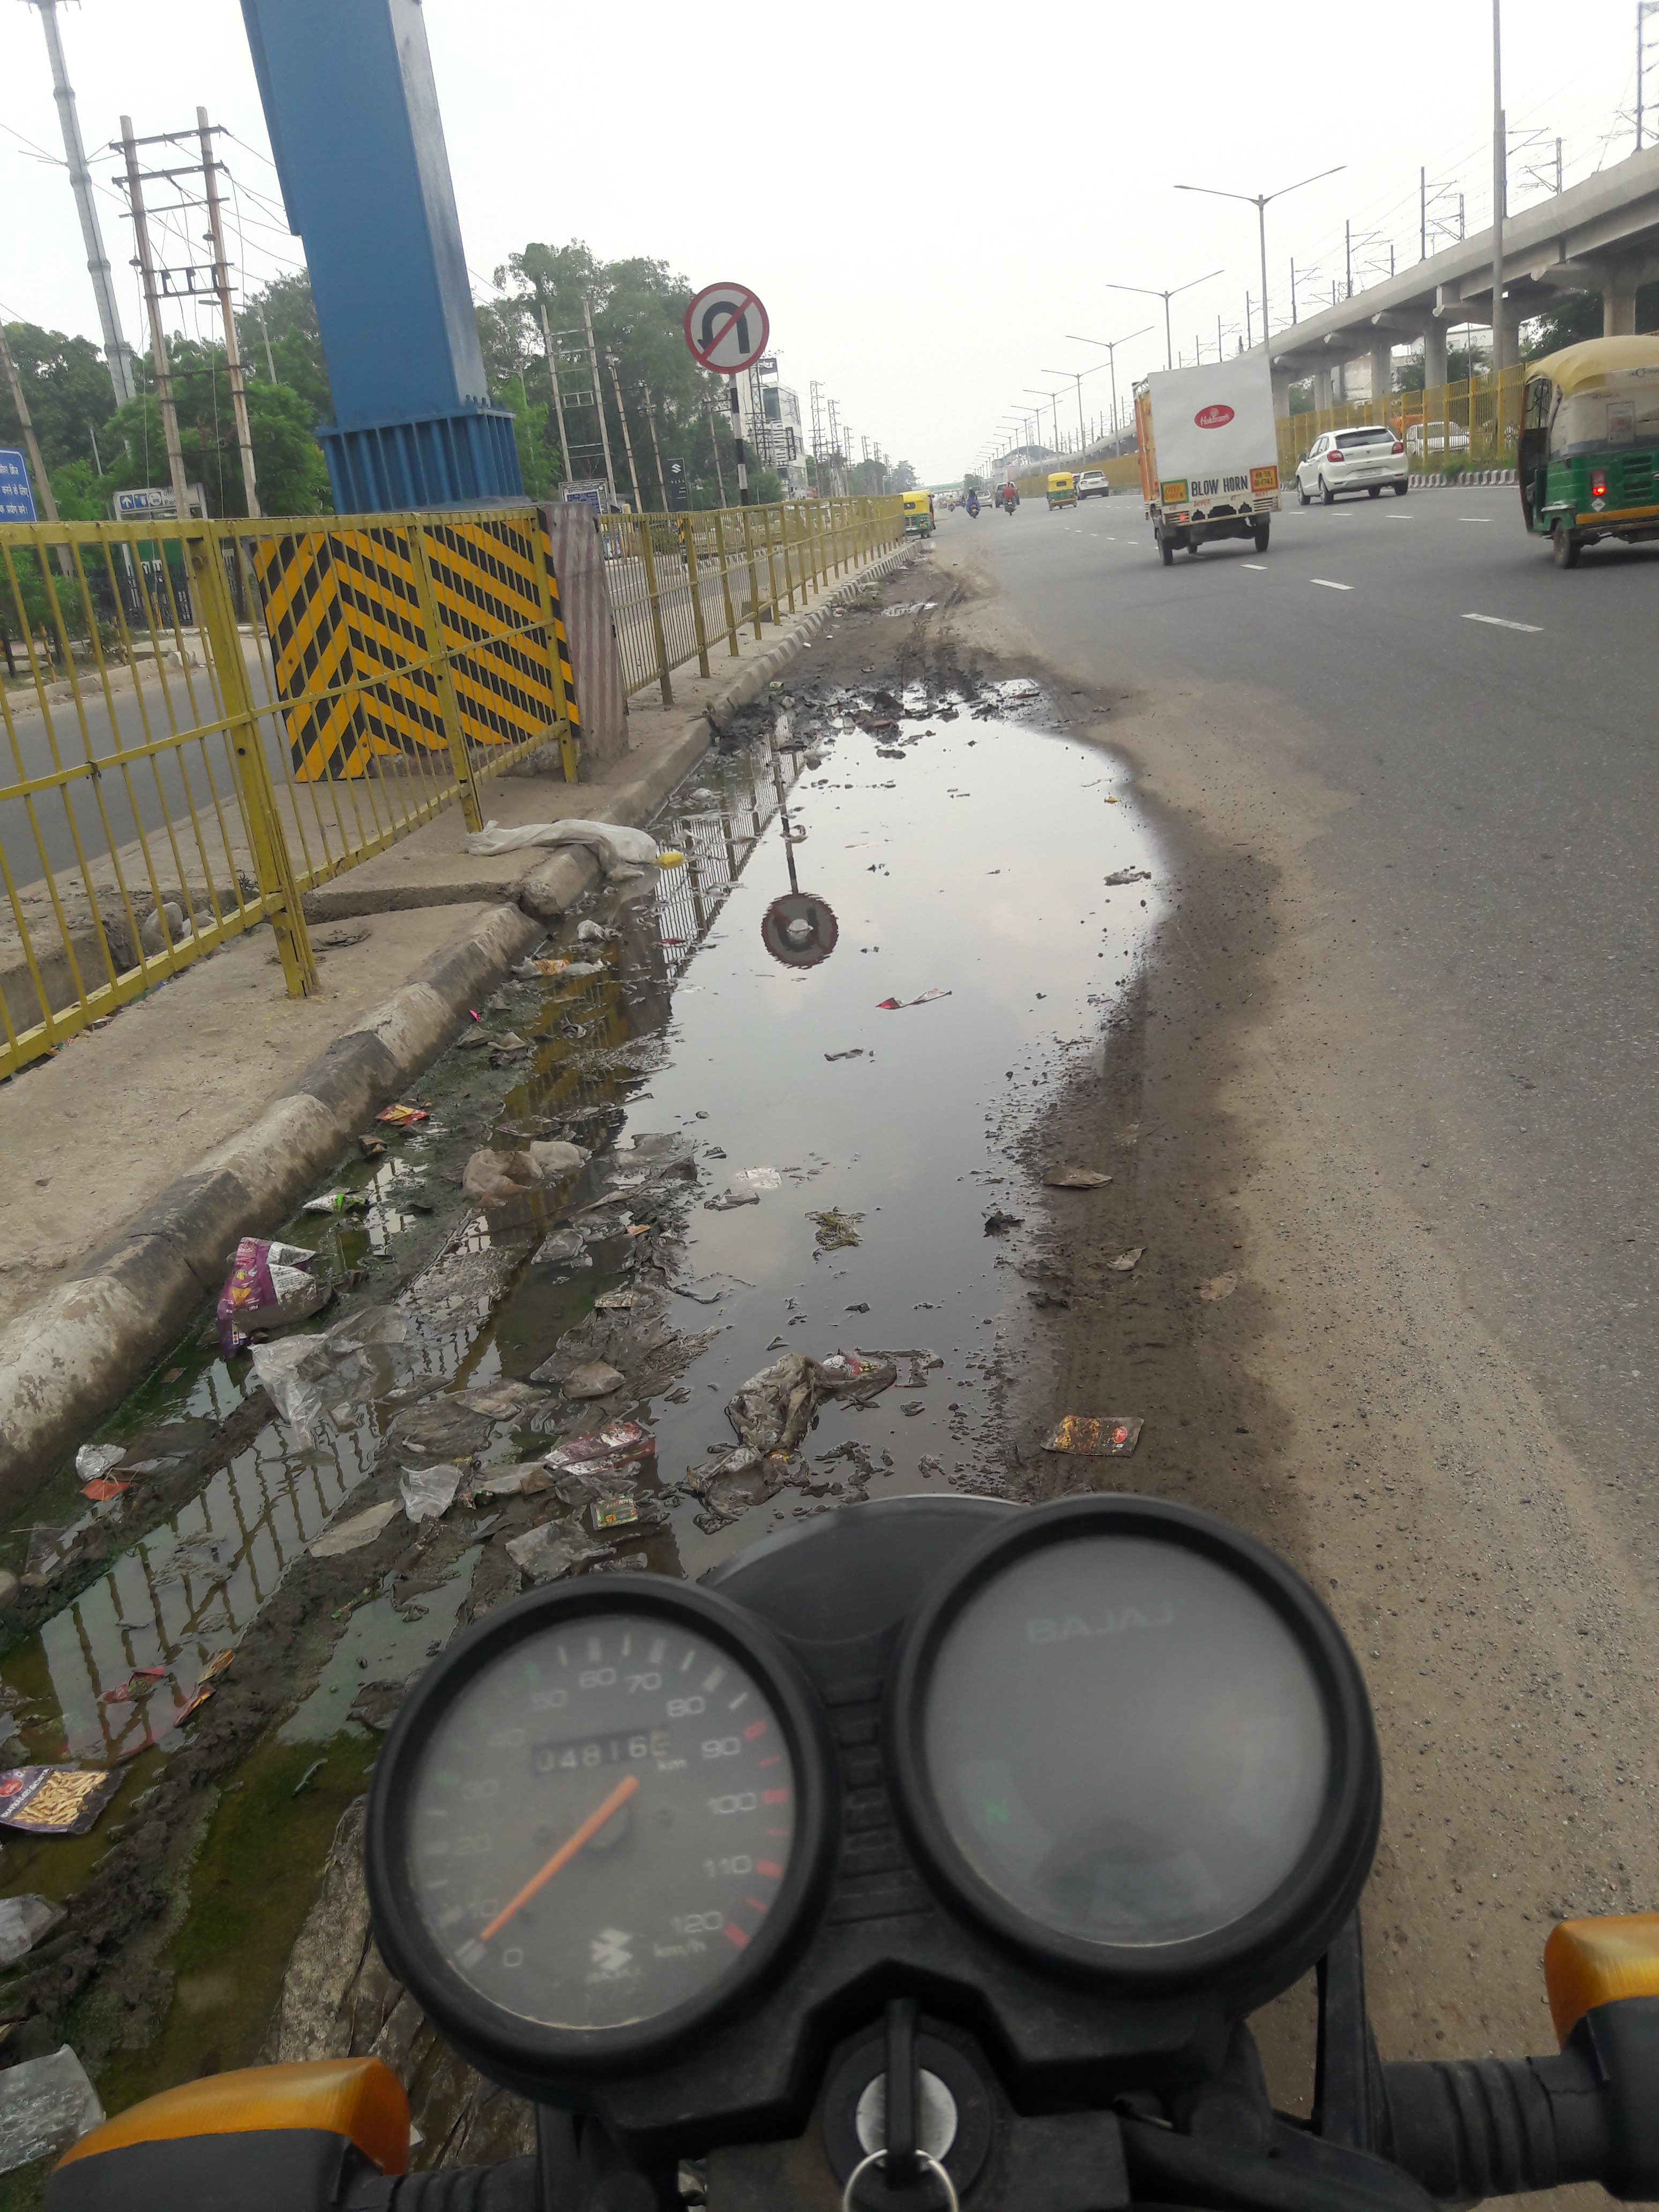traffic_sign: (685, 282, 770, 374)
